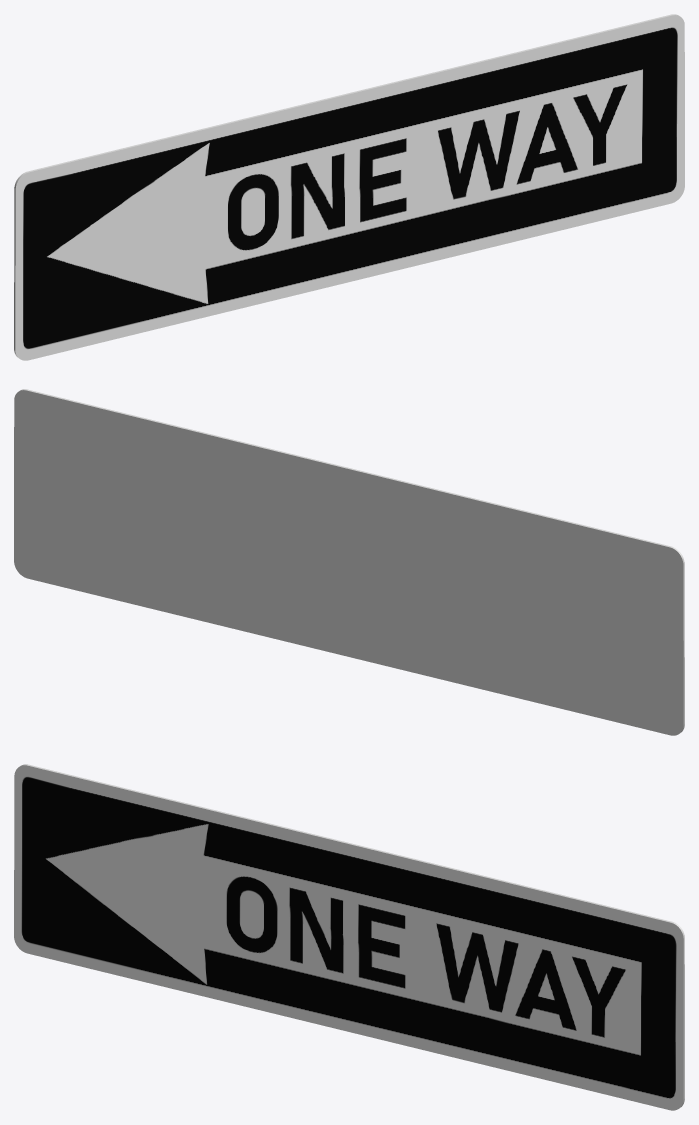
File: TrafficSign_OneWay.fbx
The picture shows the model from 3 angles, top to bottom: view 1: azimuth 30°, elevation 25°; view 2: azimuth 150°, elevation 25°; view 3: azimuth 330°, elevation 25°; orthographic projection.
Parts seen in each view (by area): view 1: 立方体; view 2: 立方体; view 3: 立方体.
Part boxes in pixels (<box>): 立方体: <box>14,14,684,360</box>; 立方体: <box>14,389,684,735</box>; 立方体: <box>14,764,684,1110</box>.
Size of the model in its own units: 240 by 64.33 by 0.8.
